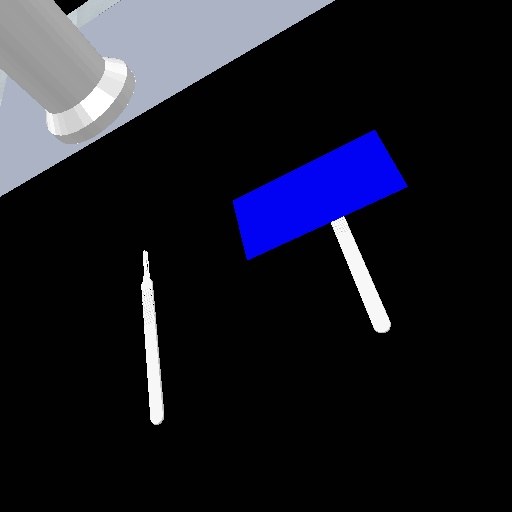bisturi: (124, 245, 176, 428), (328, 214, 398, 337)
